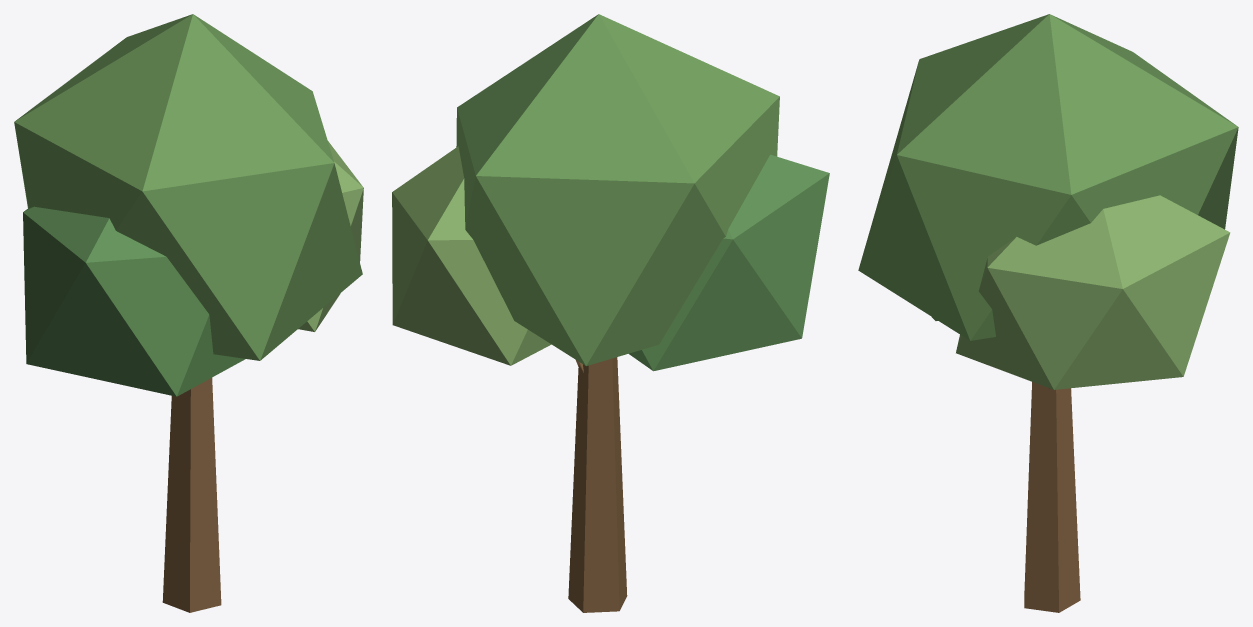
Rendered from tree_broadleaf.glb.
3 renders of one model, left to right at view 1: azimuth 30°, elevation 25°; view 2: azimuth 150°, elevation 25°; view 3: azimuth 270°, elevation 25°, orthographic.
Visible parts, largest first — view 1: tree_broadleaf; view 2: tree_broadleaf; view 3: tree_broadleaf.
Boxes of the visible parts, x1,y1,x2,y2 form: tree_broadleaf: (14, 14, 363, 612); tree_broadleaf: (392, 14, 829, 612); tree_broadleaf: (858, 14, 1238, 612).
Bounding box in the file's own units: 5.93 × 9.38 × 5.51.
